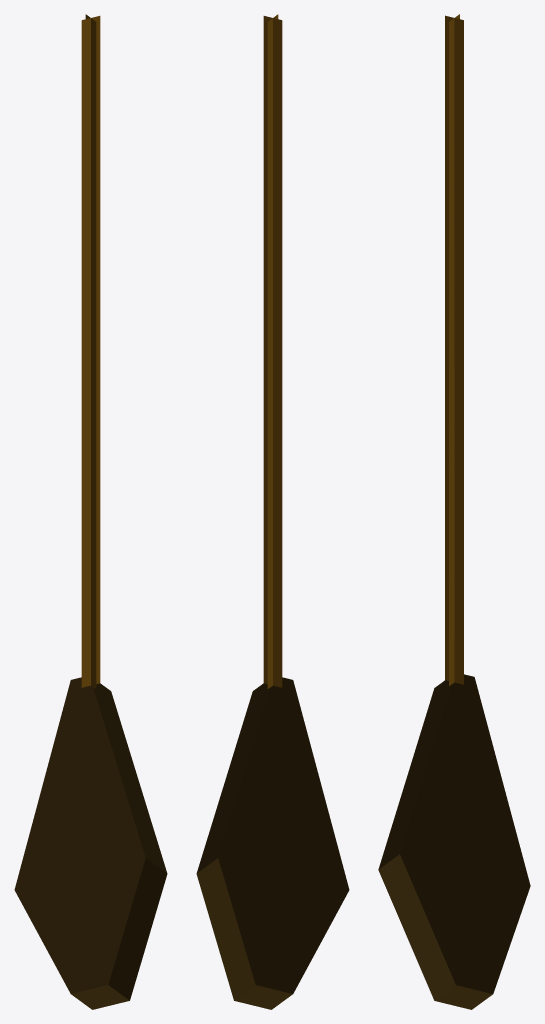
The model's file is gfx_81.obj.
The picture shows the model from 3 angles, left to right: view 1: azimuth 30°, elevation 25°; view 2: azimuth 150°, elevation 25°; view 3: azimuth 330°, elevation 25°; orthographic projection.
Bounding box in the file's own units: 0.1094 × 0.7812 × 0.0312.
